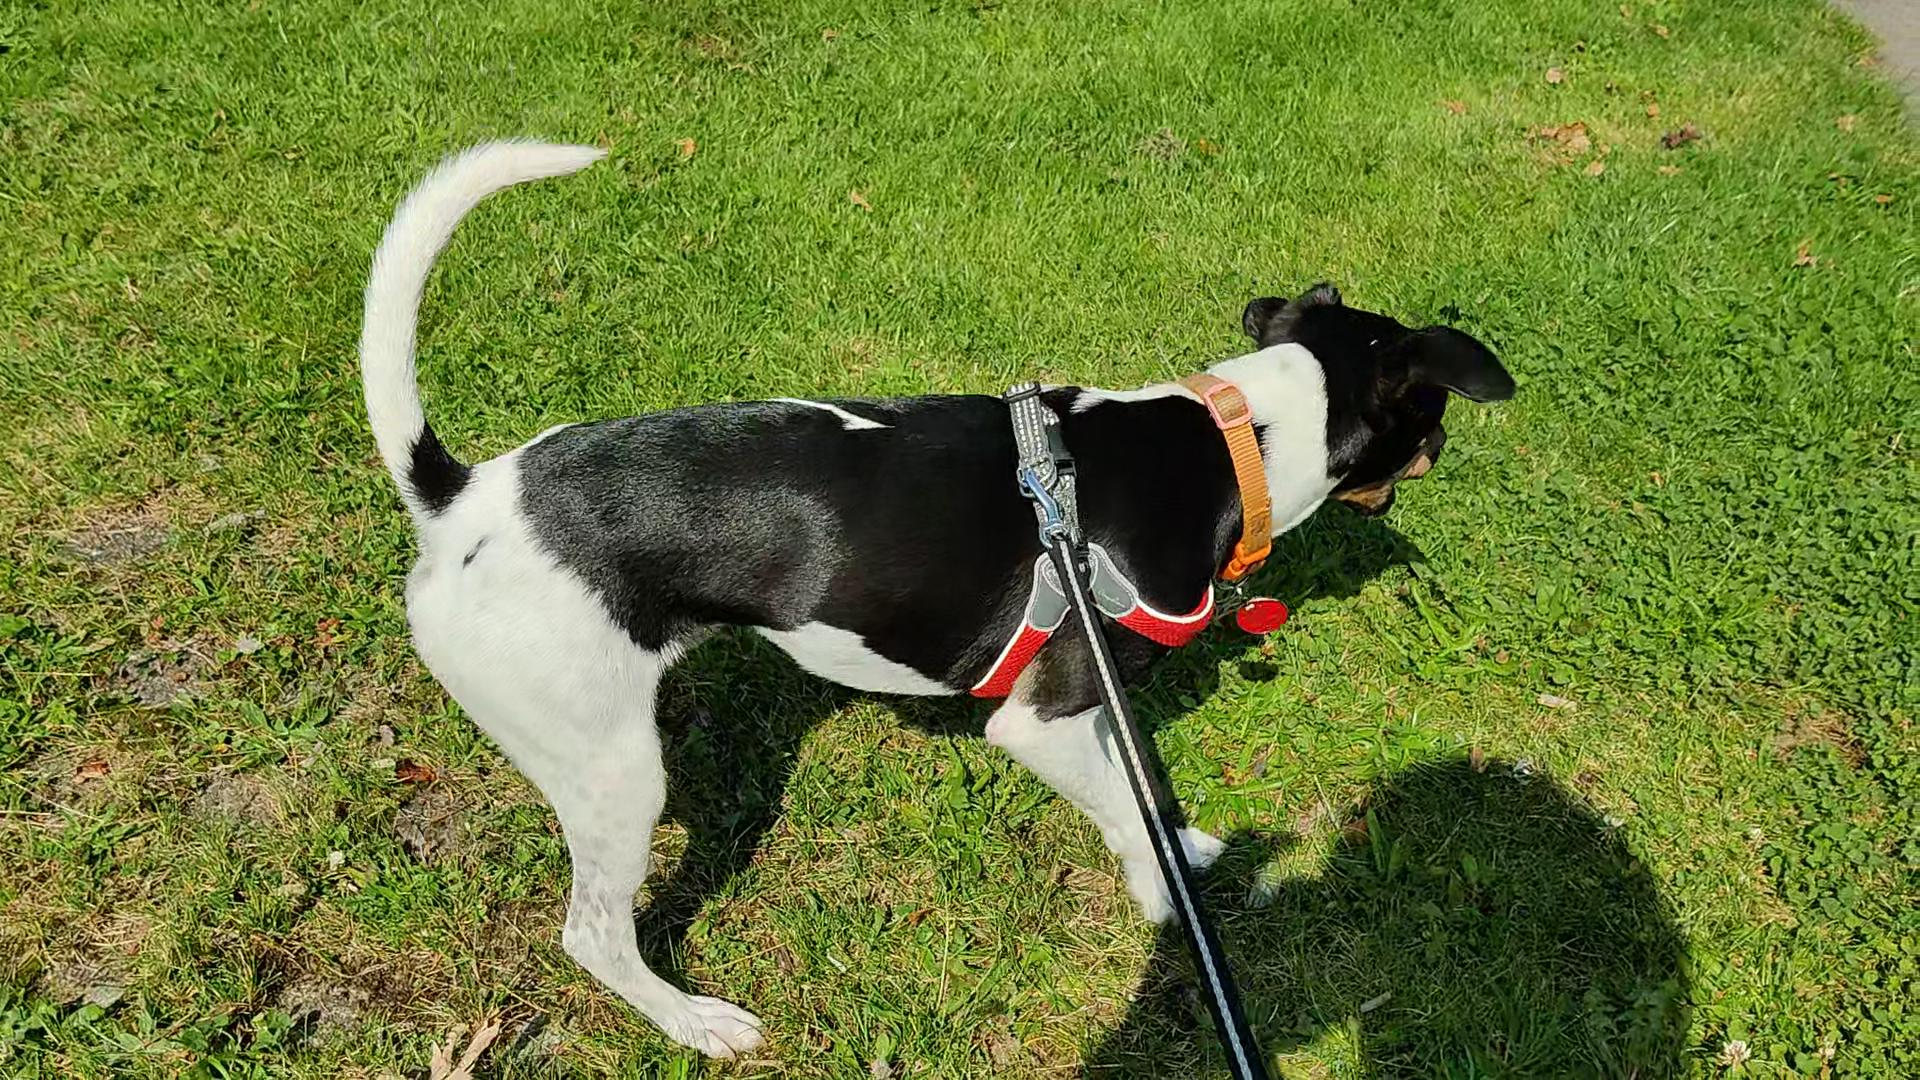Dog: (323, 107, 1520, 1079)
